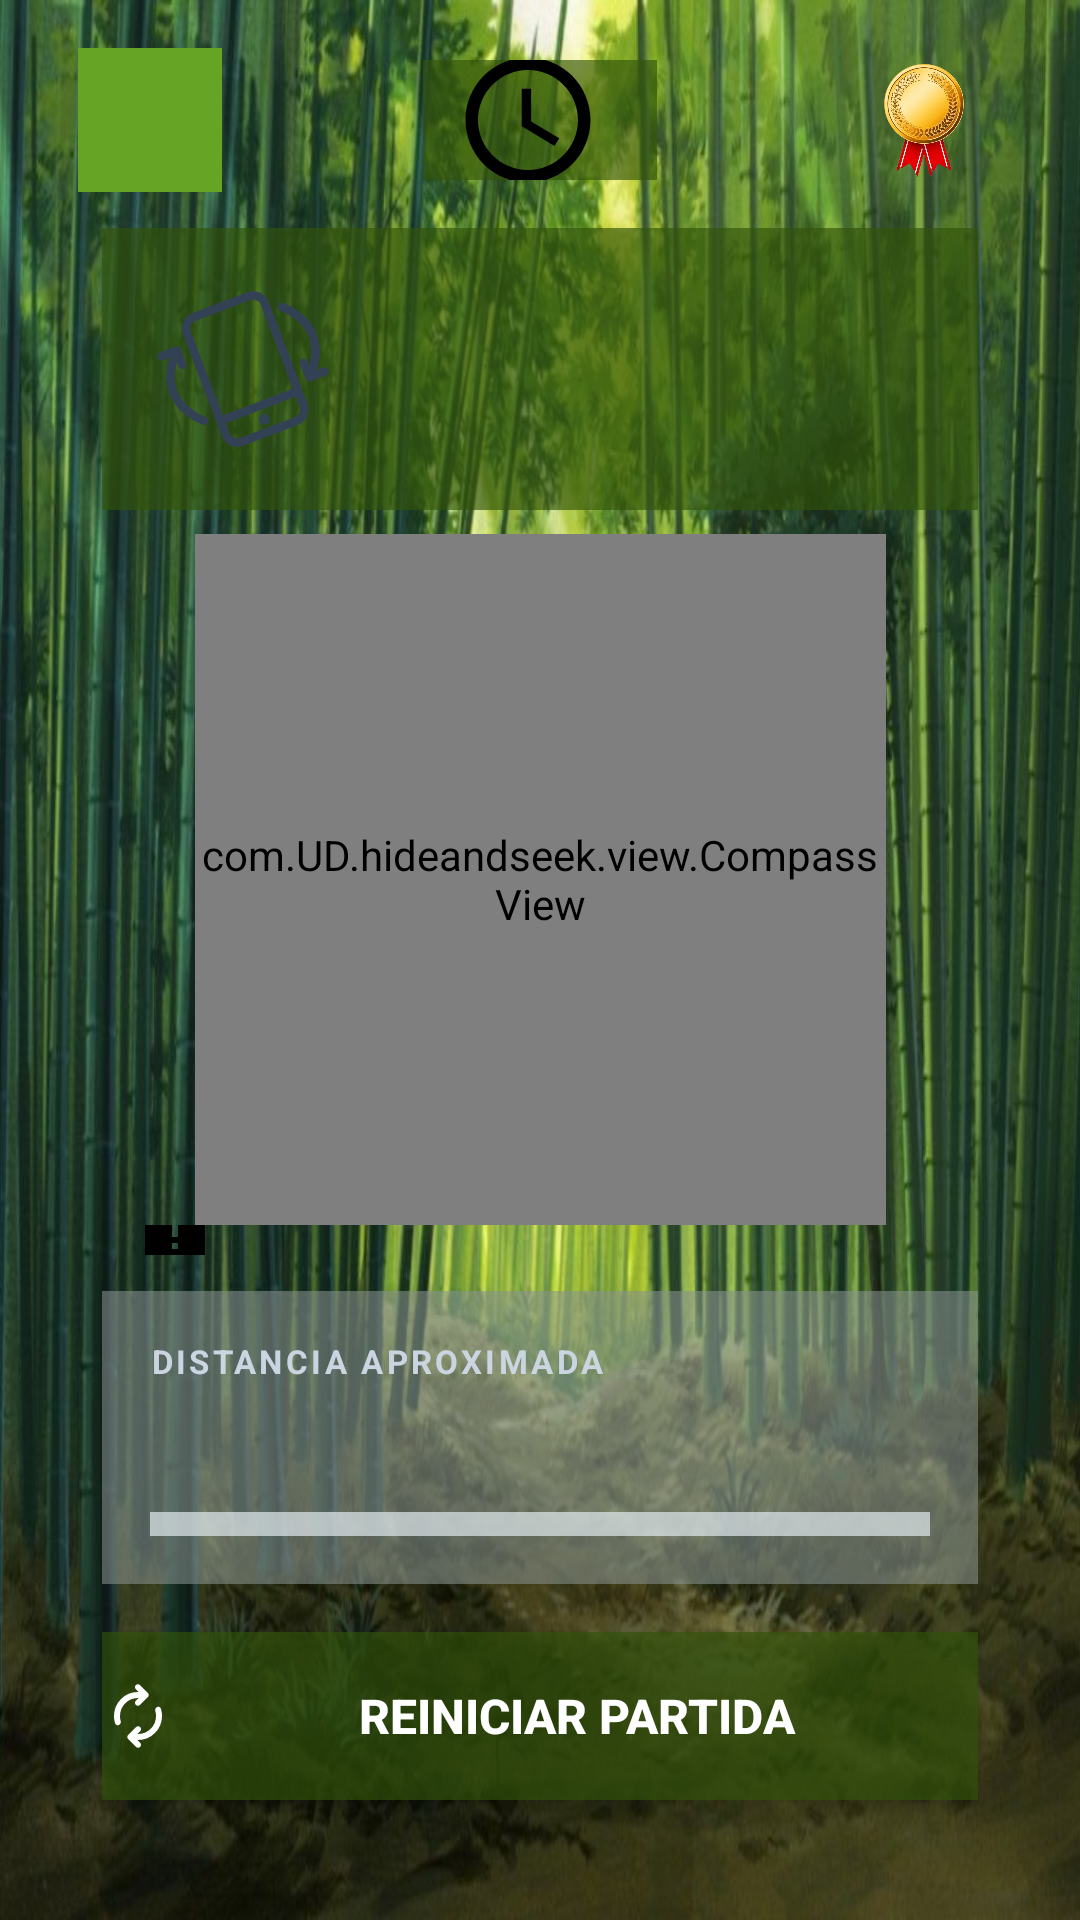

Locate icon controls on the screen. Image size 1080 × 1920, boxes as (x1, y1, x2, y2).
medal: (864, 60, 984, 180)
rotating phone: (157, 264, 346, 474)
